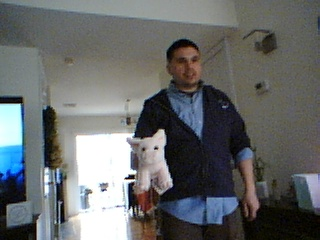piggy: (126, 128, 176, 194)
